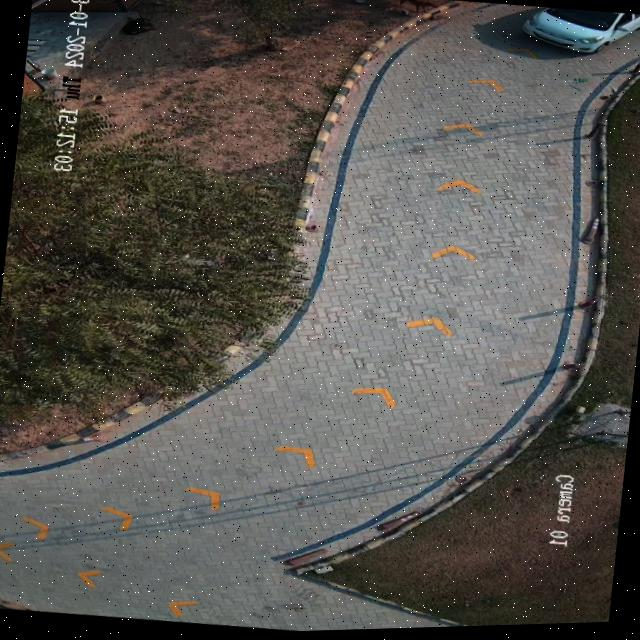car: (522, 9, 640, 56)
